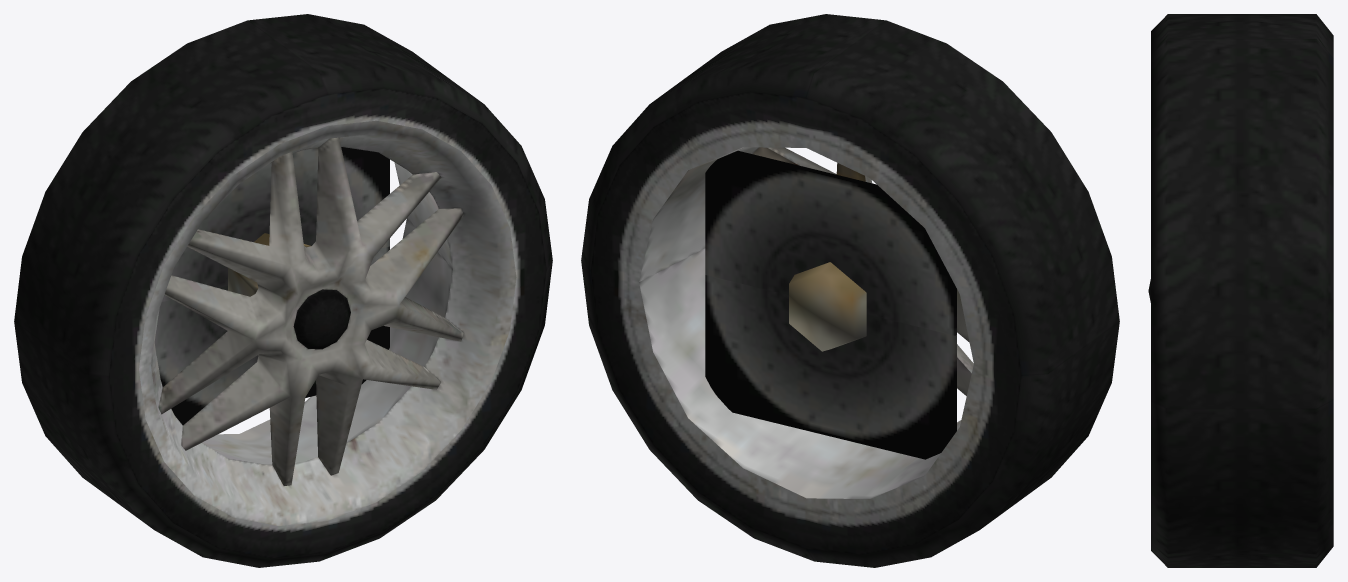
The model's file is V_A_ExoticMuscle_Wheel_1_SkeletalMesh3_SkeletalMesh_1.psk.glb.
3 renders of one model, left to right at view 1: azimuth 30°, elevation 25°; view 2: azimuth 150°, elevation 25°; view 3: azimuth 270°, elevation 25°, orthographic. The views are drawn at different scales.
Bounding box in the file's own units: 72.19 × 72.19 × 24.03.
1 material, 1 textured.
